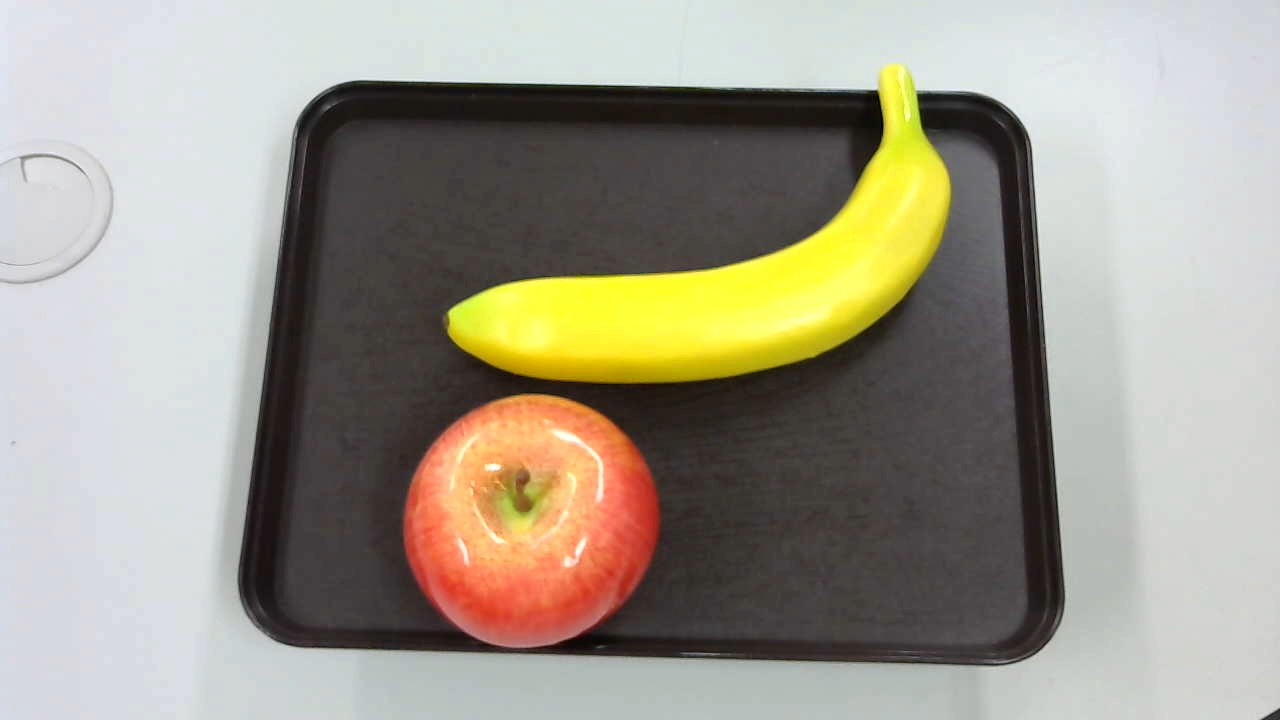banana: (445, 56, 961, 393)
red apple: (393, 388, 666, 668)
